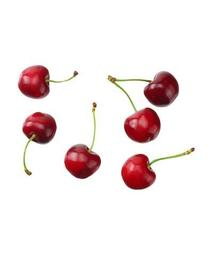cherry: (123, 107, 161, 143), (65, 143, 101, 180), (120, 154, 156, 190), (144, 71, 179, 107), (23, 111, 56, 145), (19, 65, 51, 99)
